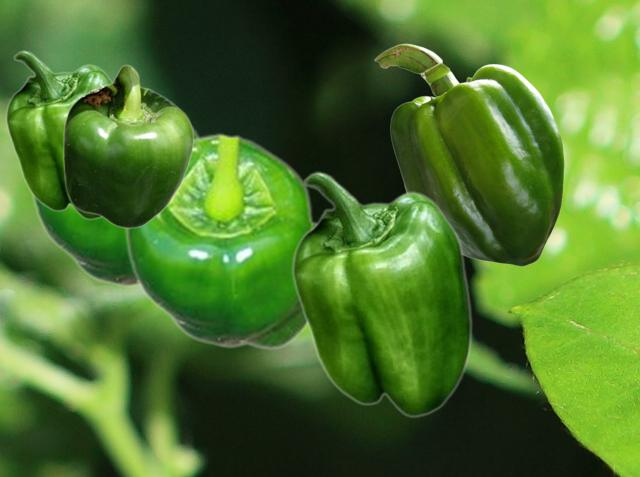bell_pepper: (291, 171, 472, 417), (374, 43, 563, 265), (123, 132, 316, 349), (28, 119, 201, 288), (62, 64, 193, 228), (5, 50, 112, 219)
